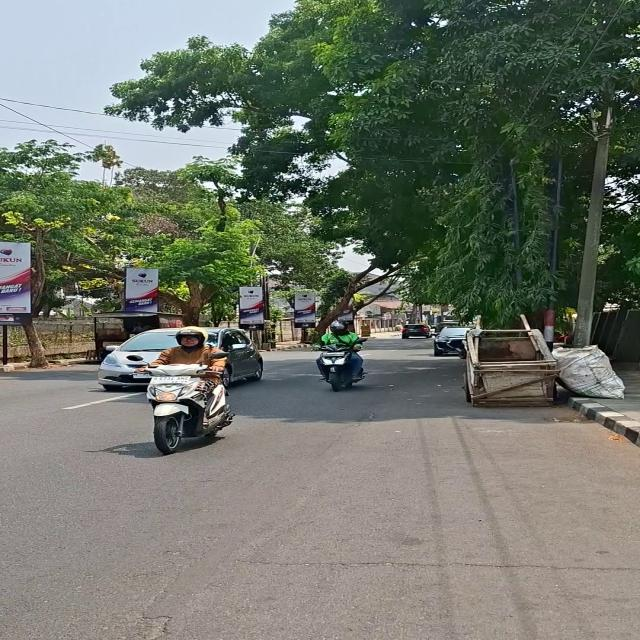WithHelmet: (138, 326, 231, 415), (314, 321, 366, 383)
